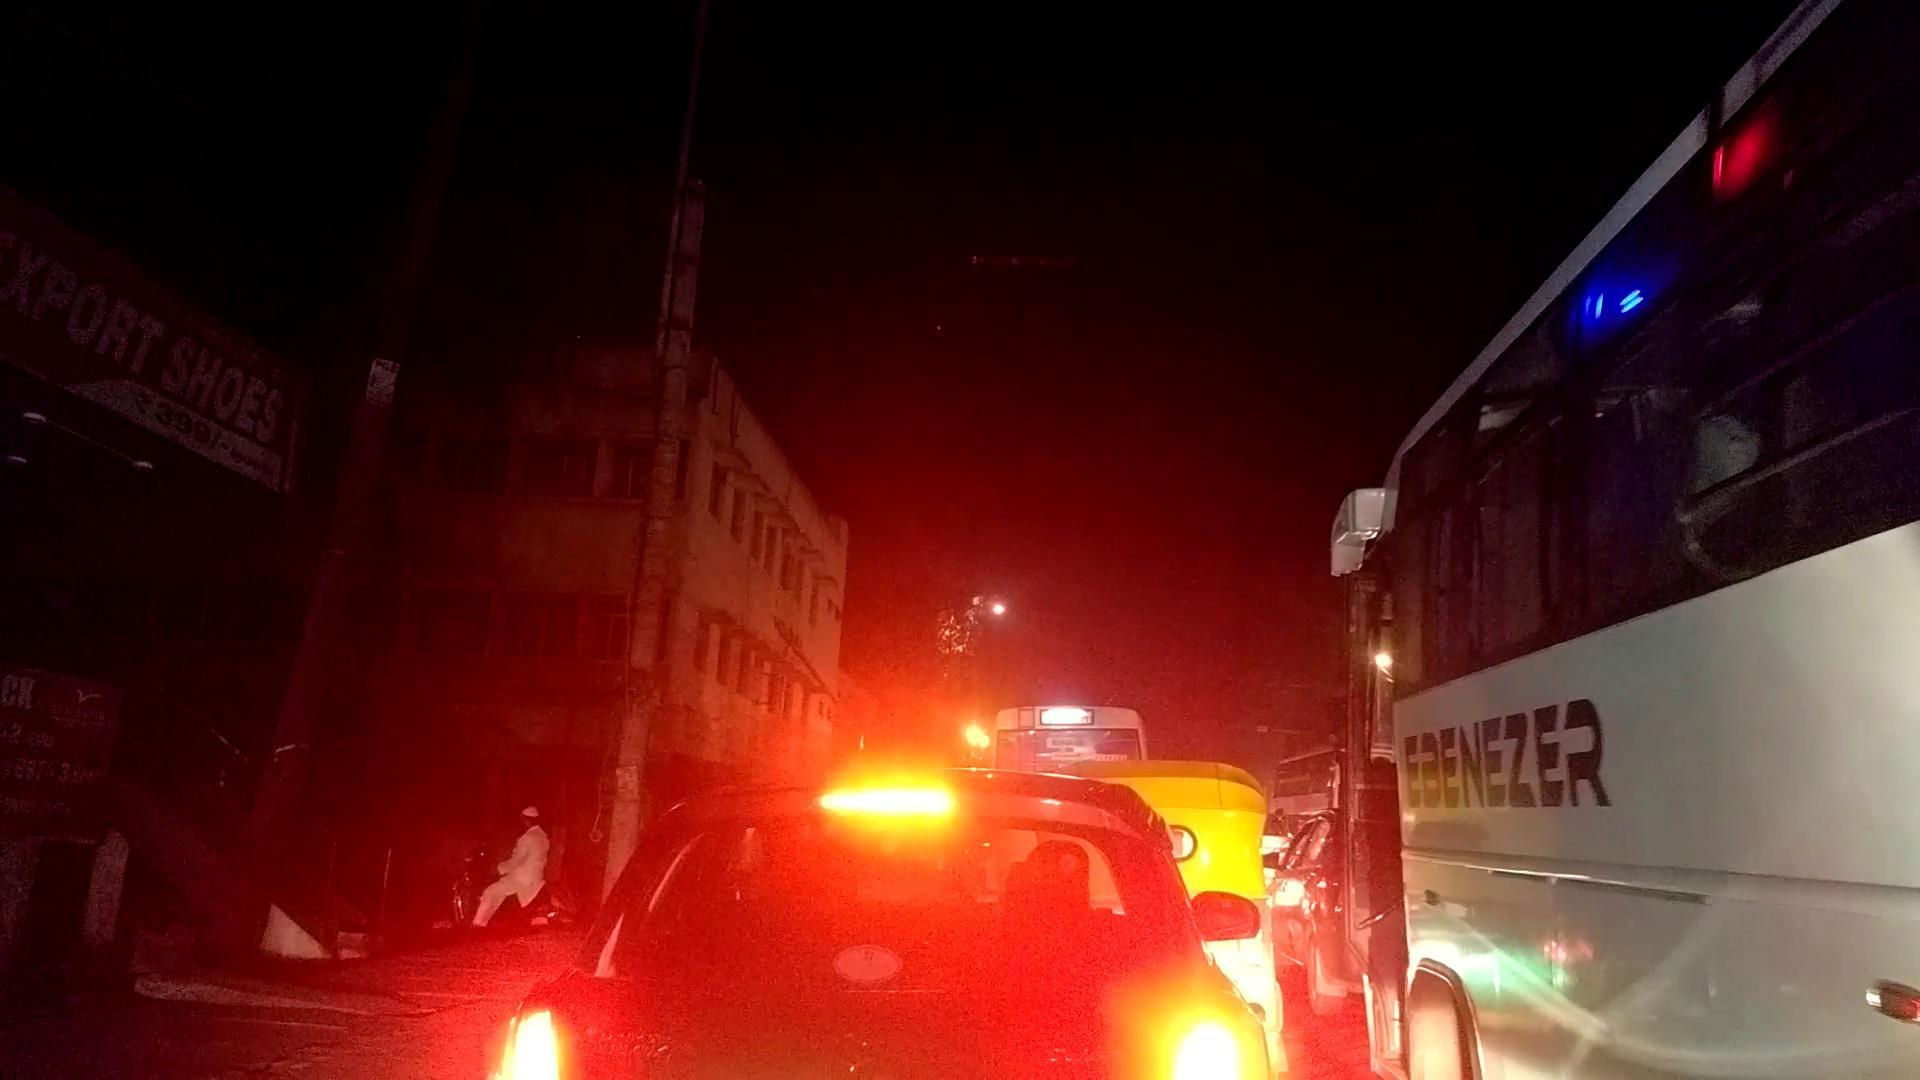on: (1080, 642, 1519, 1080)
